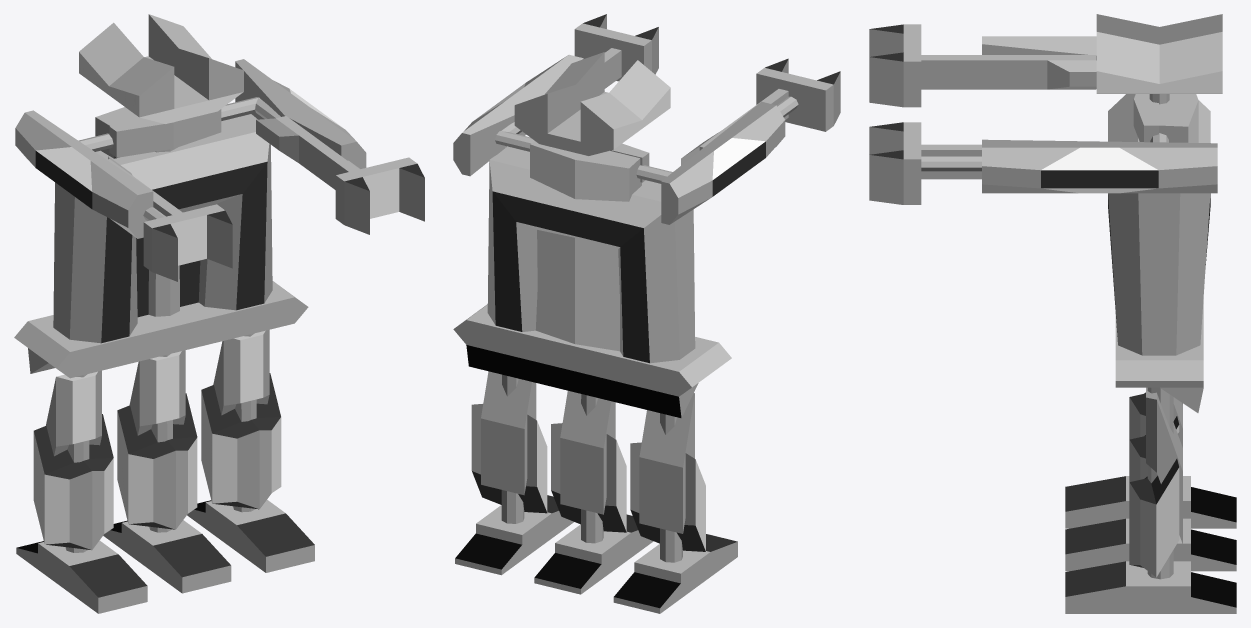
The model's file is mech.fbx.
3 renders of one model, left to right at view 1: azimuth 30°, elevation 25°; view 2: azimuth 150°, elevation 25°; view 3: azimuth 270°, elevation 25°, orthographic. The views are drawn at different scales.
Parts seen in each view (by area): view 1: Cube; view 2: Cube; view 3: Cube.
Boxes of the visible parts, x1,y1,x2,y2 form: Cube: (14, 14, 424, 613); Cube: (453, 14, 840, 613); Cube: (869, 14, 1236, 613).
Bounding box in the file's own units: 81.09 × 150 × 93.27.
